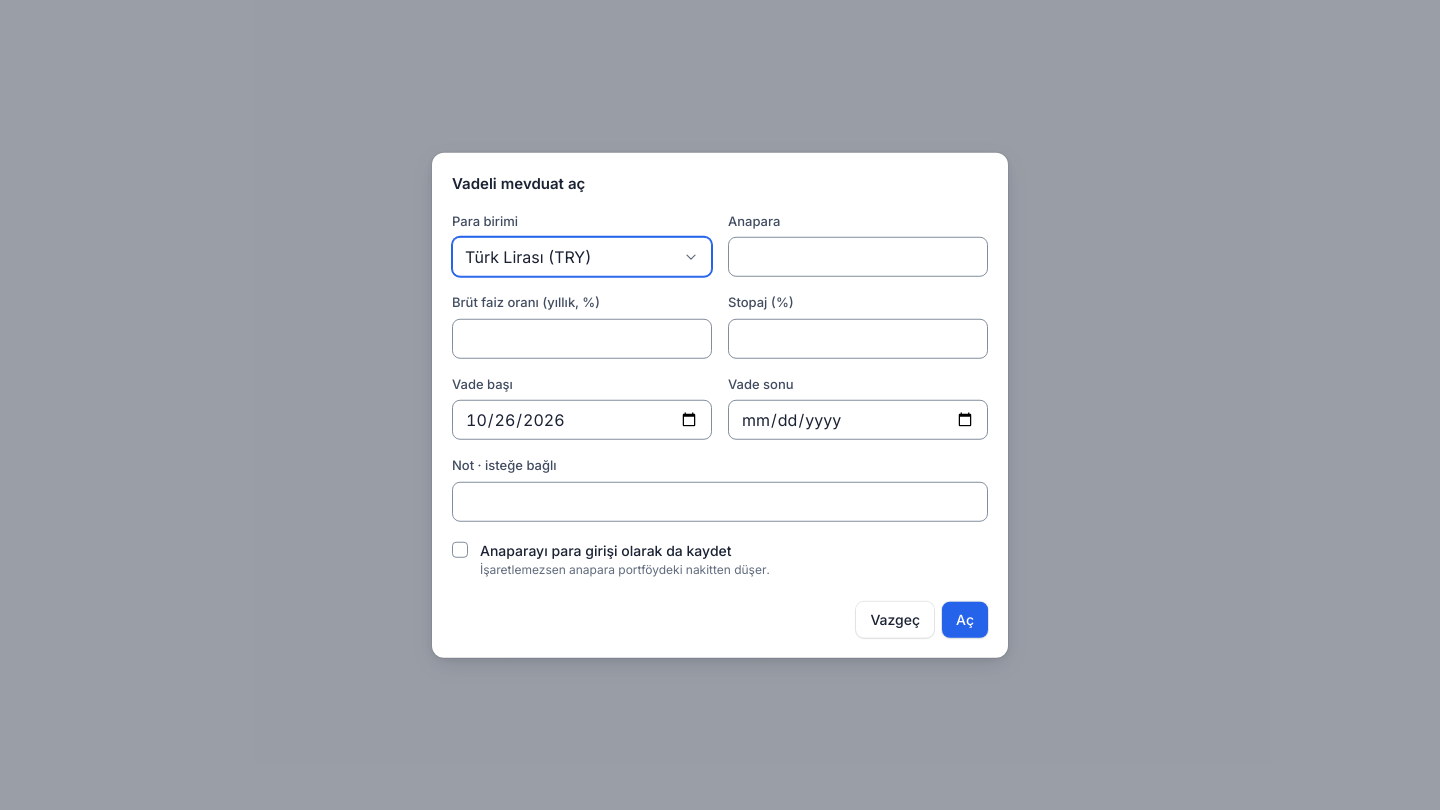
Test: shows the server message inline and stays open
Type "100000" into the field labelled "Anapara". click: [858, 257]
box: x1=728 y1=237 x2=988 y2=277
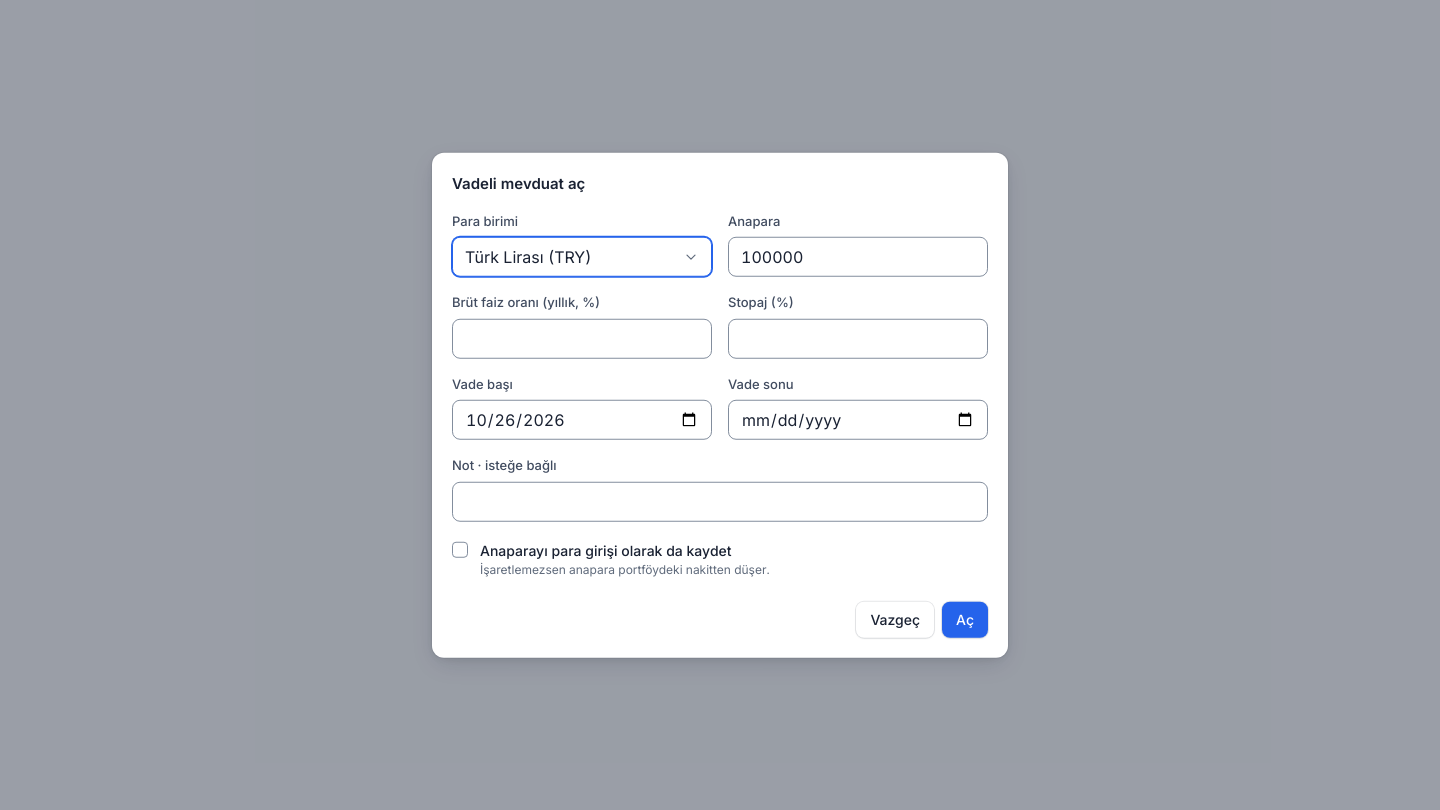
Type "45" into the field labelled "Brüt faiz oranı (yıllık, %)". click: [582, 338]
box: x1=452 y1=318 x2=712 y2=358
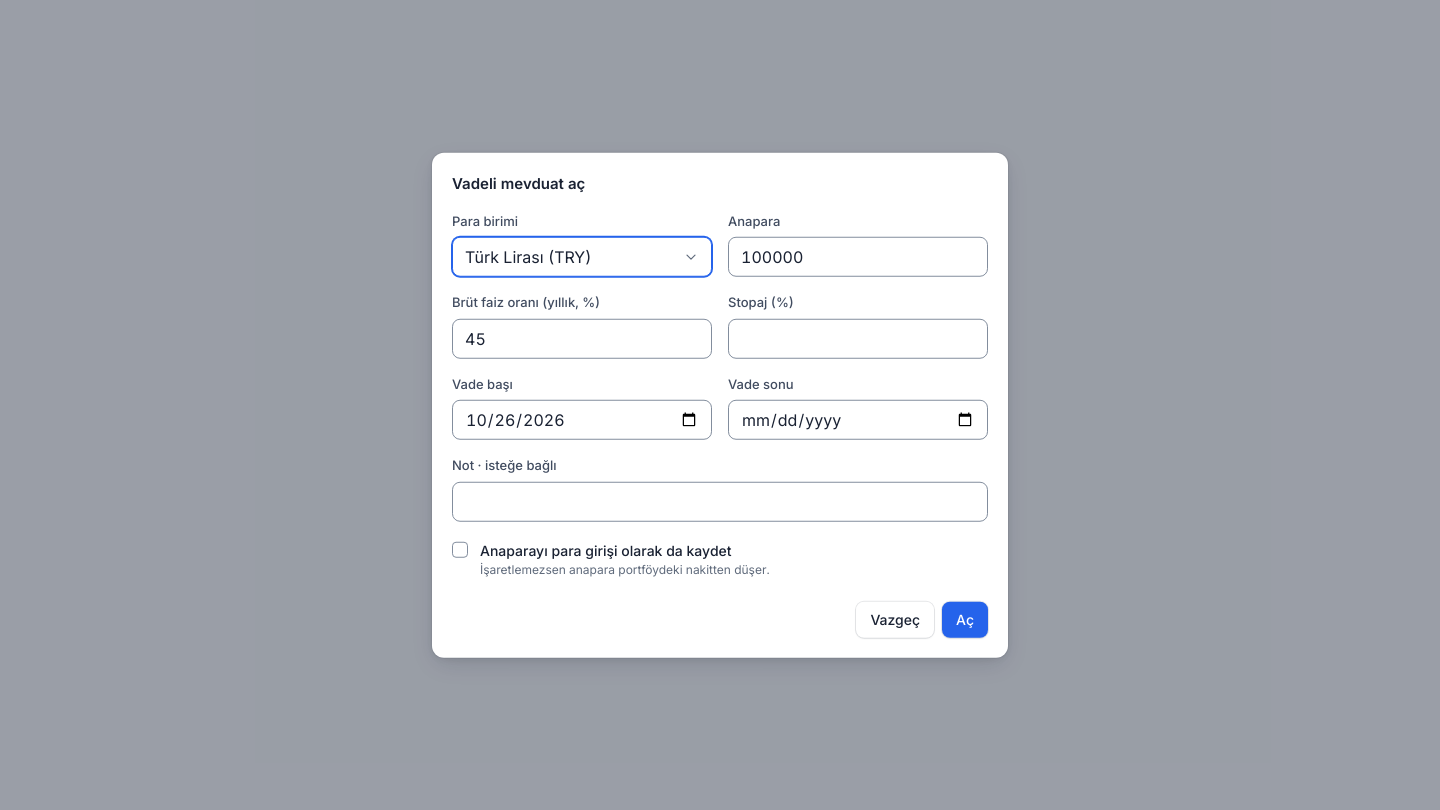
Type "17.5" into the field labelled "Stopaj (%)". click: [858, 338]
box: x1=728 y1=318 x2=988 y2=358
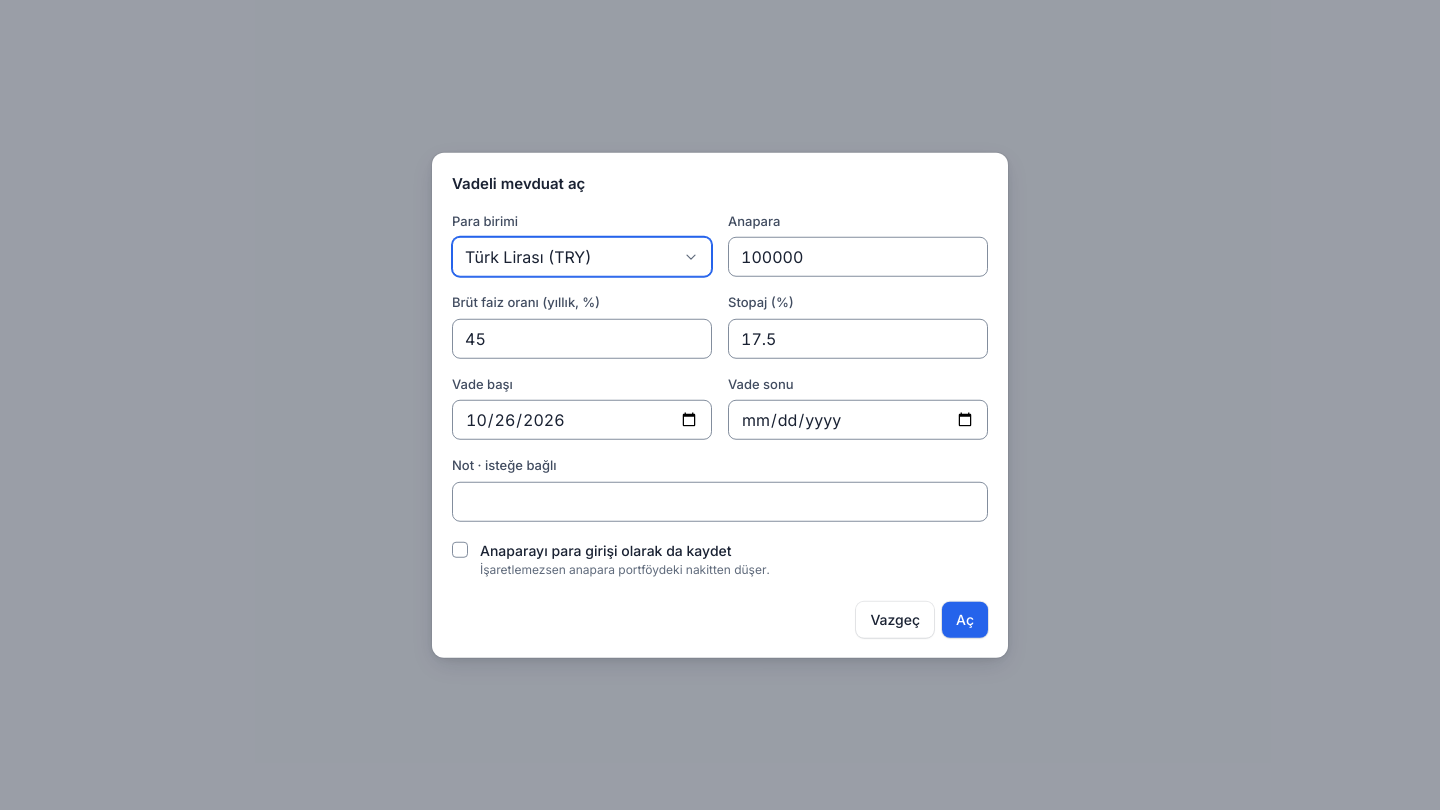
Type "2026-01-01" into the date field labelled "Vade başı". click: [582, 420]
box: x1=452 y1=400 x2=712 y2=440
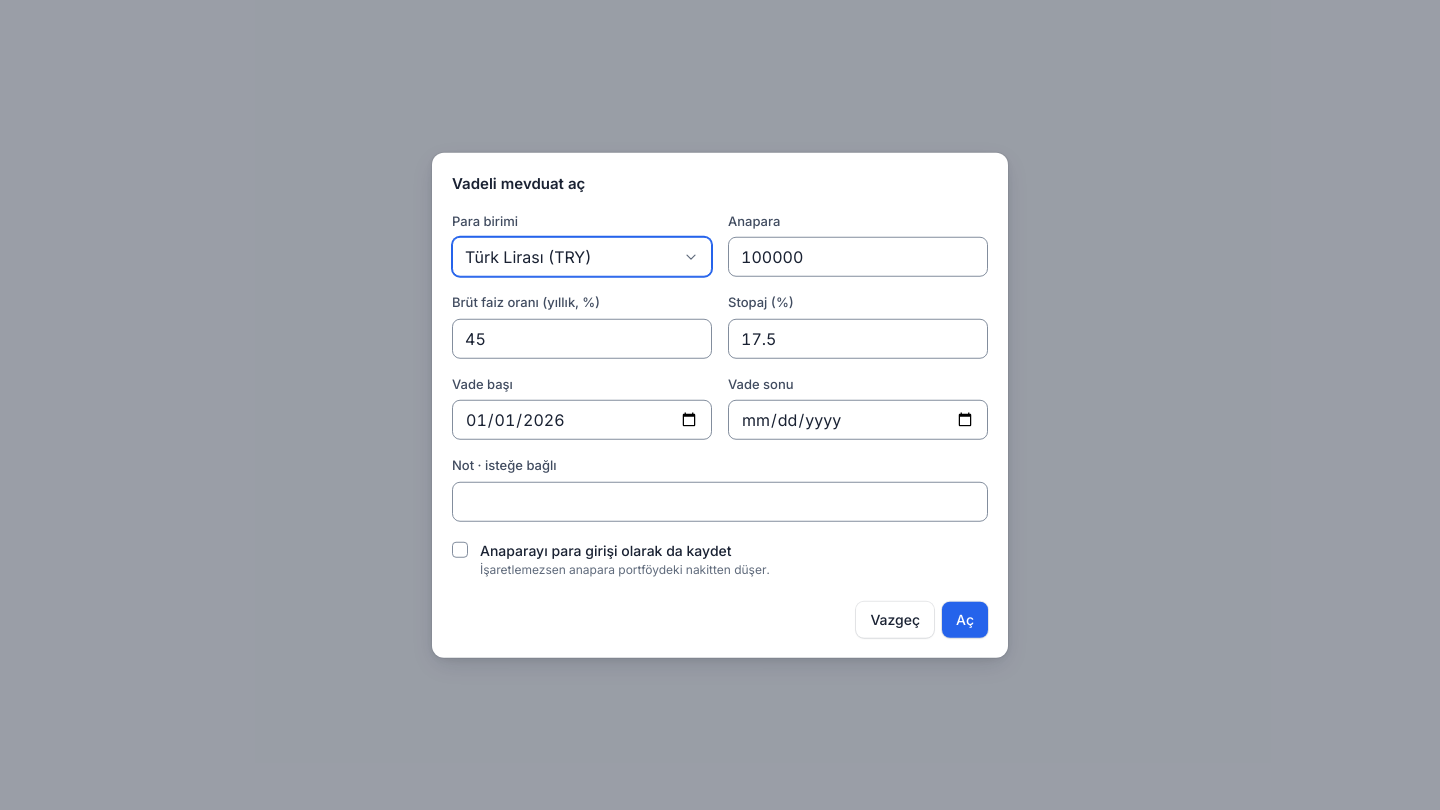
Type "2026-02-02" into the date field labelled "Vade sonu". click: [858, 420]
box: x1=728 y1=400 x2=988 y2=440
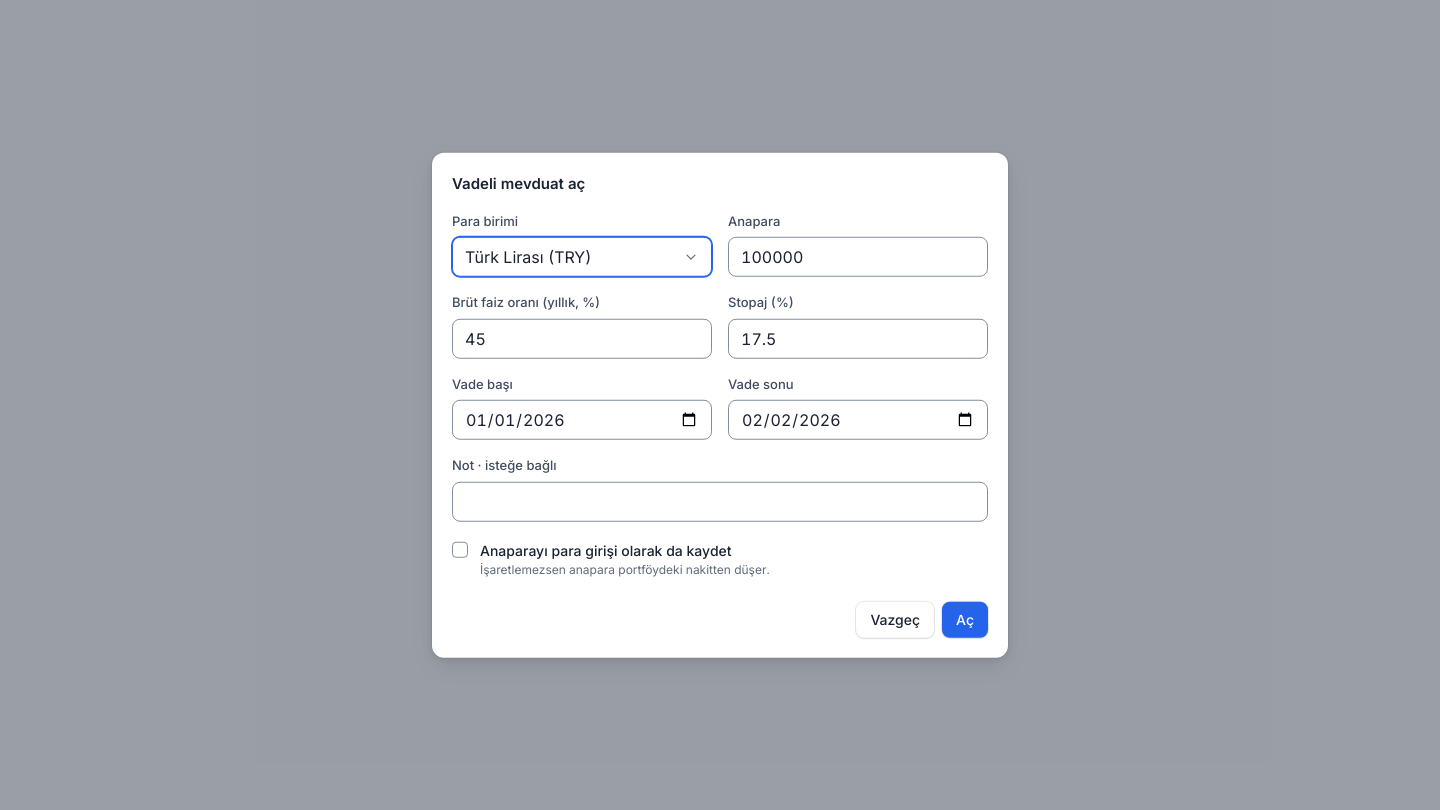
Click the button "Aç". click: [965, 619]
box: x1=942 y1=601 x2=988 y2=637
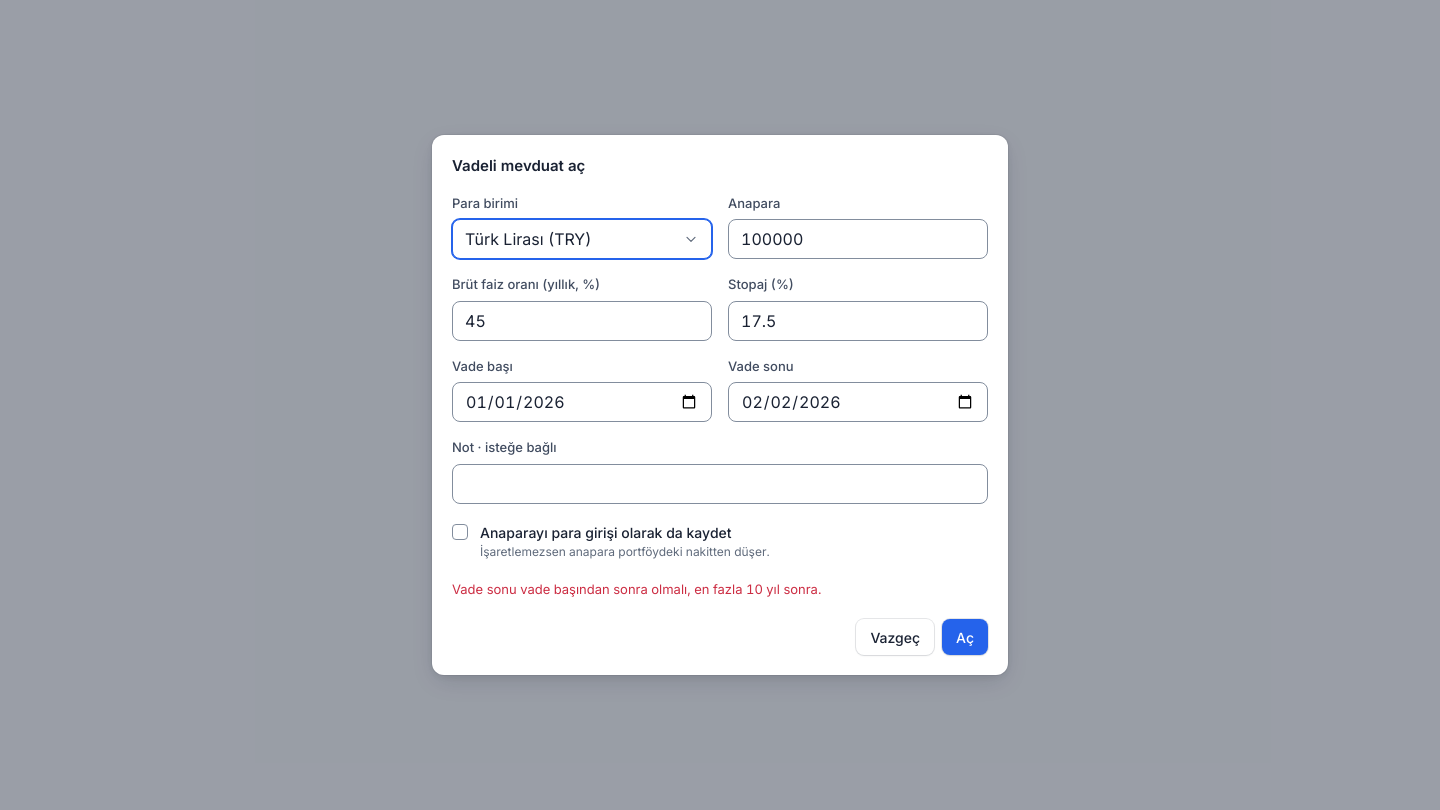
Expected: the message reads "Vade sonu vade başından sonra olmalı, en fazla 10 yıl sonra.", x1=452 y1=580 x2=821 y2=596
